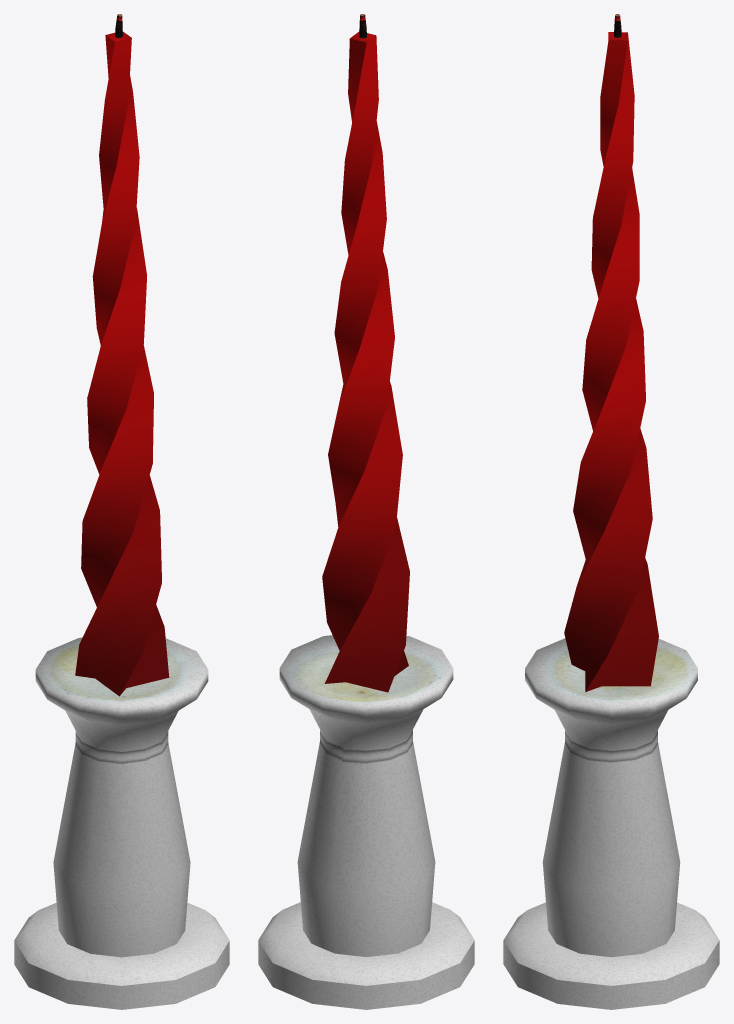
The model's file is long_candle.fbx.
The picture shows the model from 3 angles, left to right: view 1: azimuth 30°, elevation 25°; view 2: azimuth 150°, elevation 25°; view 3: azimuth 270°, elevation 25°; orthographic projection.
Visible parts, largest first — view 1: candle_long; view 2: candle_long; view 3: candle_long.
Part boxes in pixels (left/top/right/bottom): candle_long: left=14, top=14, right=229, bottom=1009; candle_long: left=258, top=14, right=474, bottom=1009; candle_long: left=503, top=14, right=719, bottom=1009.
Size of the model in its own units: 8.57 by 41.55 by 8.57.
